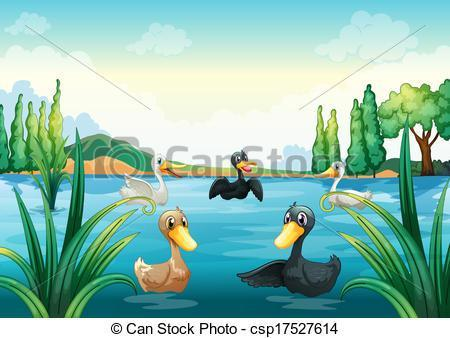bird: (232, 200, 341, 298), (124, 206, 197, 295), (117, 149, 188, 209), (202, 145, 269, 208), (309, 161, 374, 213)
